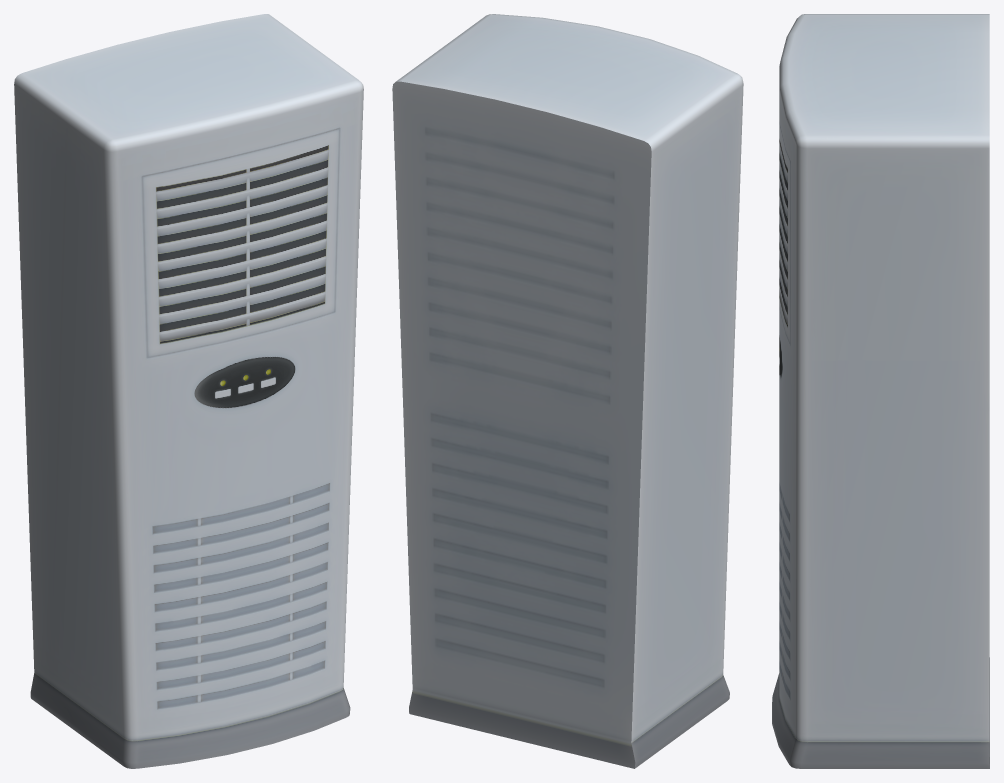
Rendered from OfficeAirConditioner01.FBX.
3 renders of one model, left to right at view 1: azimuth 30°, elevation 25°; view 2: azimuth 150°, elevation 25°; view 3: azimuth 270°, elevation 25°, orthographic.
Visible parts, largest first — view 1: OfficeAirConditioner01; view 2: OfficeAirConditioner01; view 3: OfficeAirConditioner01.
Boxes of the visible parts, box(x1,y1,x2,y2) form: OfficeAirConditioner01: box(14, 14, 363, 768); OfficeAirConditioner01: box(392, 14, 743, 768); OfficeAirConditioner01: box(772, 14, 989, 768).
Size of what is drawn, in the model's own units: 0.9482 by 2.22 by 0.6807.
